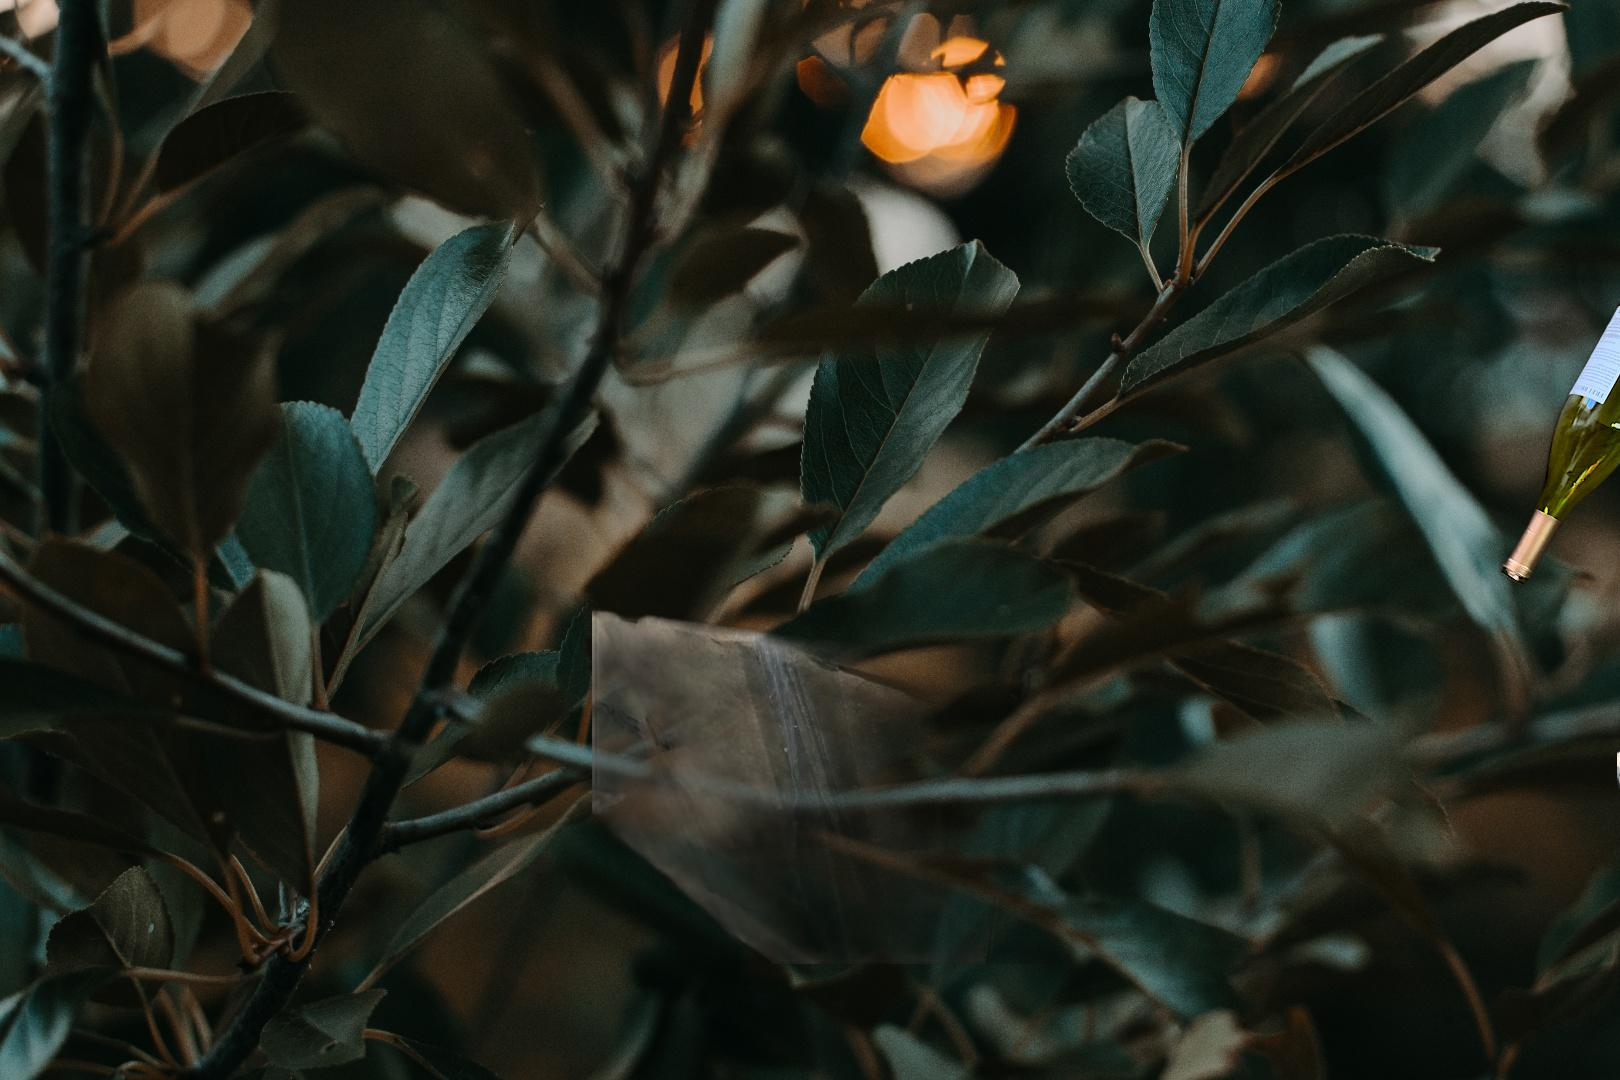biological: (1618, 620, 1620, 865)
glass: (1496, 278, 1620, 591)
trashbox-cardboard: (592, 580, 1104, 964)
